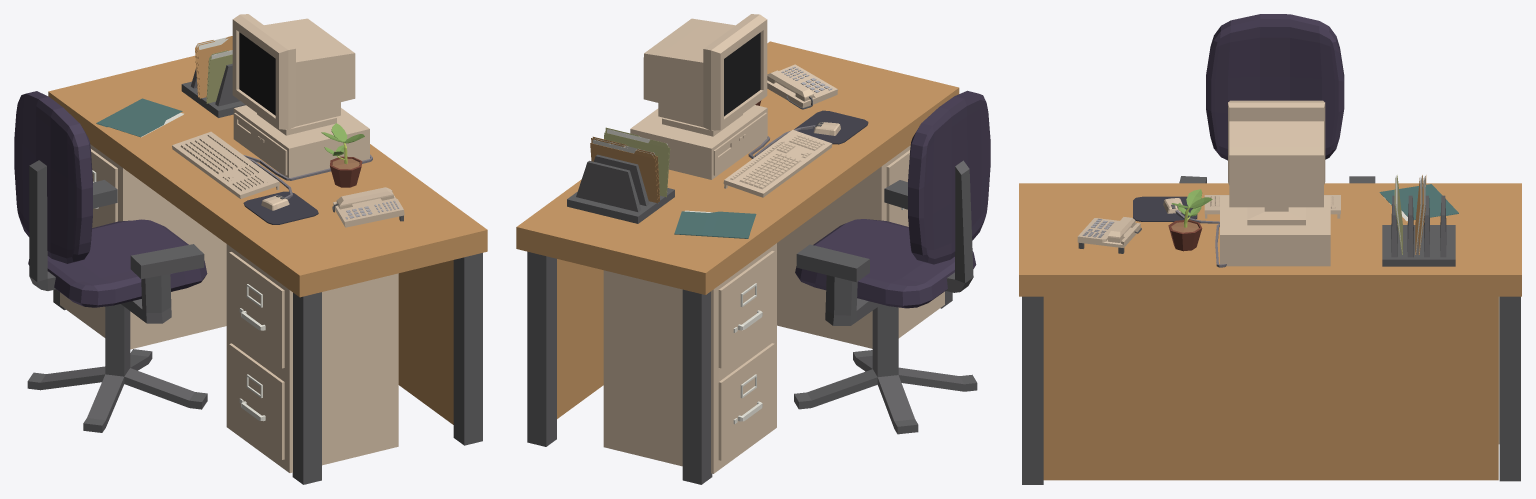
File: boss_desk.glb
3 views of the same model, side by side, from view 1: azimuth 30°, elevation 25°; view 2: azimuth 150°, elevation 25°; view 3: azimuth 270°, elevation 25° (orthographic).
Visible parts, largest first — view 1: Cubicle_Table.008; view 2: Cubicle_Table.008; view 3: Cubicle_Table.008.
Part boxes in pixels (<box>): Cubicle_Table.008: <box>14,14,487,484</box>; Cubicle_Table.008: <box>516,14,990,484</box>; Cubicle_Table.008: <box>1019,14,1521,484</box>.
Bounding box in the file's own units: 1.63 × 1.61 × 2.17.
Materials: 1 (1 with a texture image).
